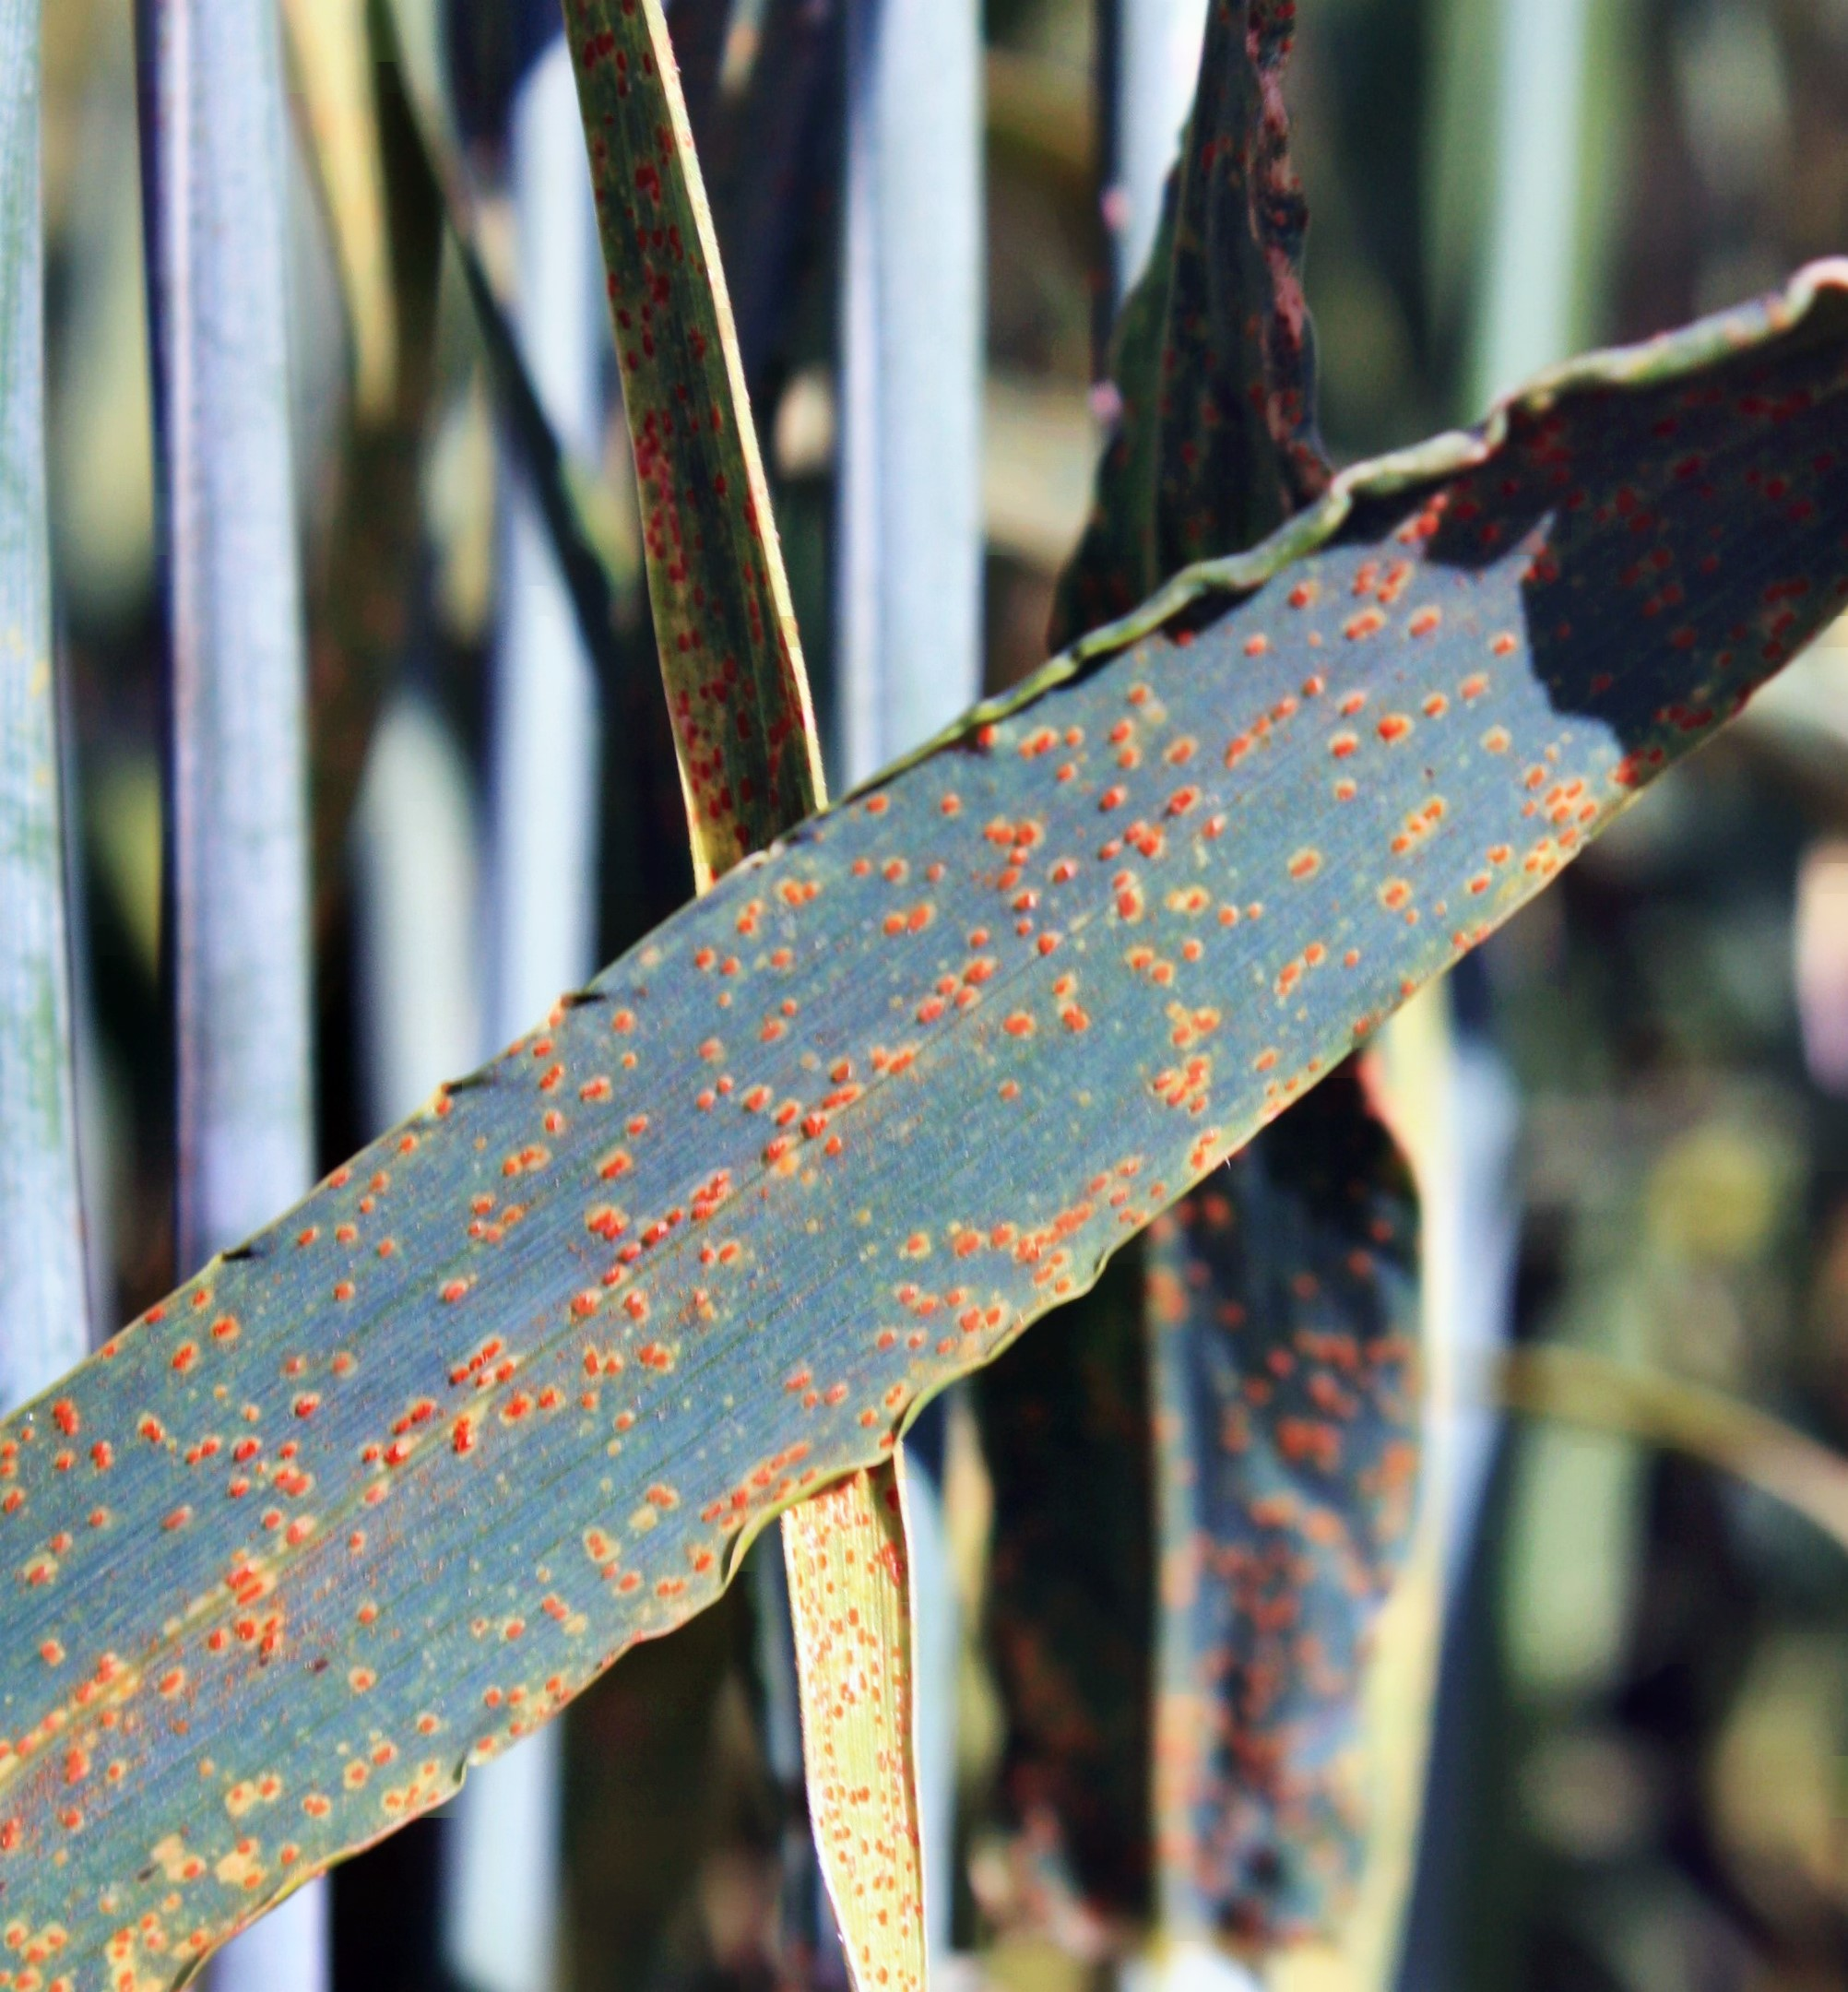Leaf Rust: (2, 755, 1105, 1957)
